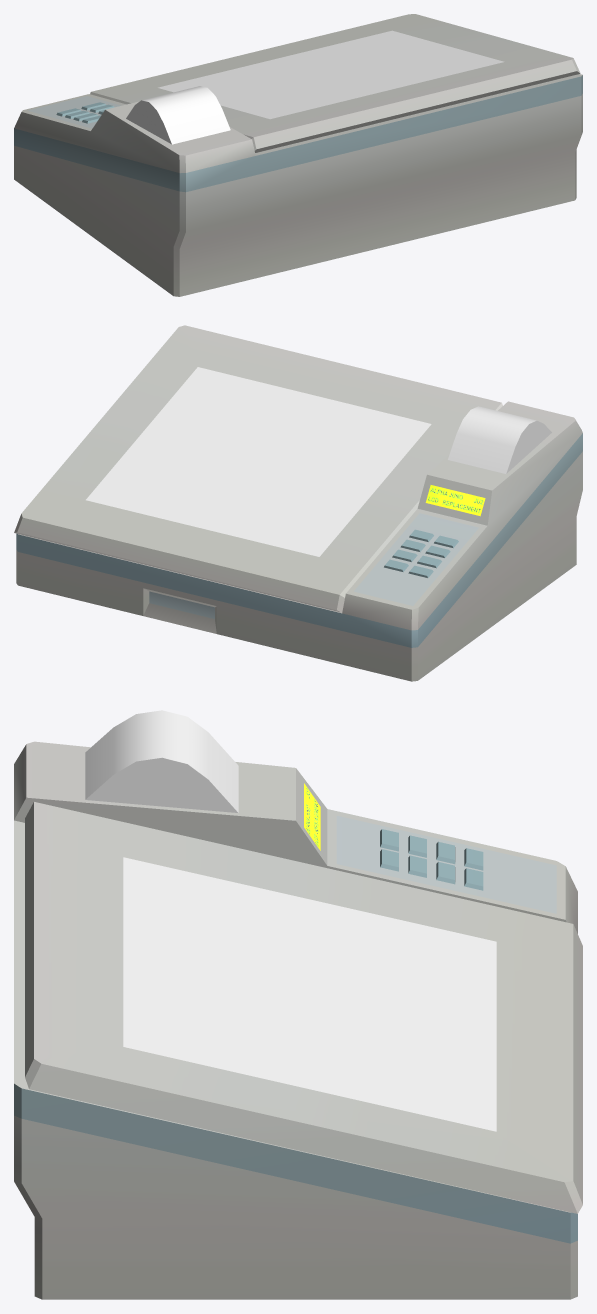
The model's file is Pfb_JLAB__hemical_Sterilizer.fbx.
3 views of the same model, one above another, from view 1: azimuth 30°, elevation 25°; view 2: azimuth 150°, elevation 25°; view 3: azimuth 270°, elevation 25° (orthographic). The views are drawn at different scales.
Visible parts, largest first — view 1: Color, Glass; view 2: Color, Glass, Monitors; view 3: Color, Glass, Monitors.
Part boxes in pixels (box(x1,y1,x2,y2)): Color: box(14, 14, 582, 296); Glass: box(126, 30, 504, 144); Color: box(14, 325, 582, 681); Glass: box(86, 367, 551, 556); Monitors: box(425, 485, 485, 516); Color: box(14, 741, 582, 1299); Glass: box(85, 710, 496, 1131); Monitors: box(304, 783, 320, 850).
Bounding box in the file's own units: 0.8202 × 0.3203 × 0.6052.
Materials: 3 (3 with a texture image).
